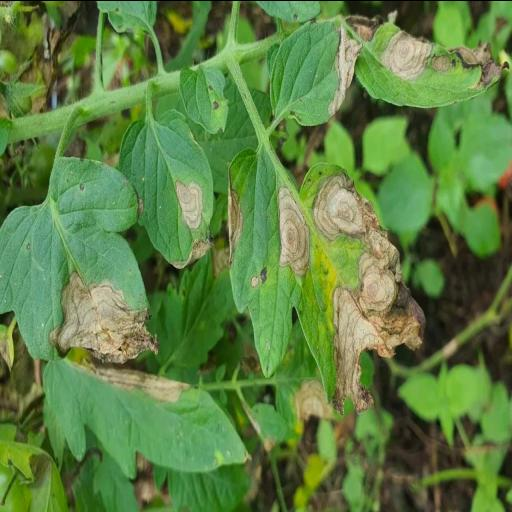Early Blight: (228, 160, 422, 412), (0, 157, 157, 360), (118, 108, 214, 268), (356, 22, 512, 108), (267, 14, 361, 126)
